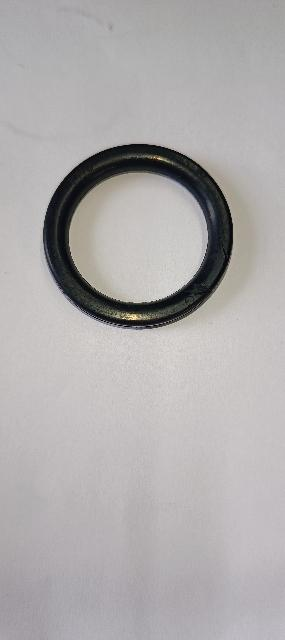4: (178, 154, 190, 167), (195, 167, 208, 179)
scratch: (181, 282, 214, 296), (220, 237, 229, 266)
